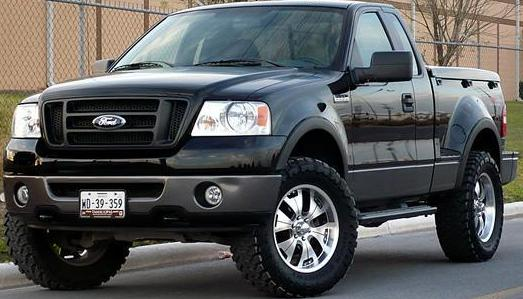front_view: (16, 83, 280, 230)
headlight: (185, 80, 285, 153)
side_glass: (340, 9, 421, 78)
